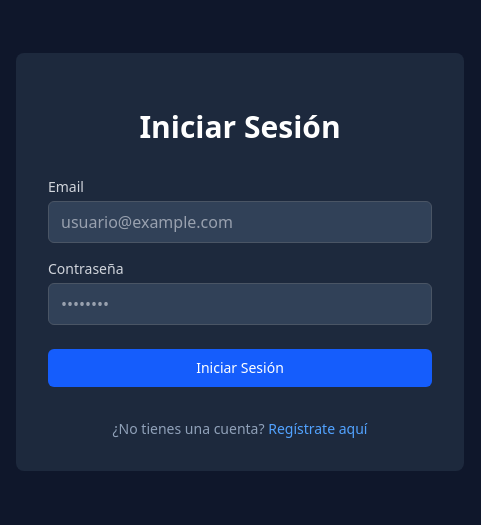
Test: LoginPage › debe mostrar error cuando el login falla
This screenshot has width=481, height=525.
Type "test@example.com" into the field labelled "Email" at (240,222), box x1=48 y1=201 x2=432 y2=243
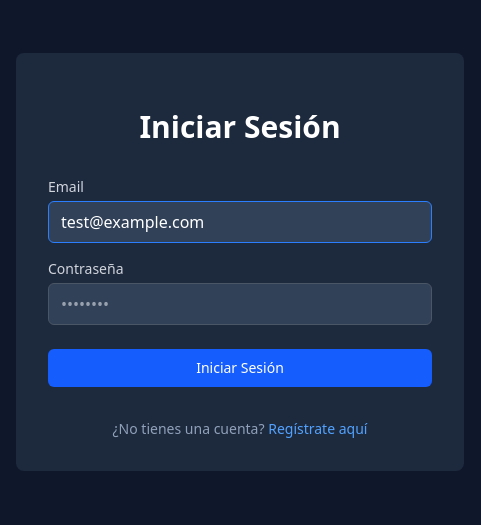
Type "wrongpassword" into the password field labelled "Contraseña" at (240,304), box x1=48 y1=283 x2=432 y2=325
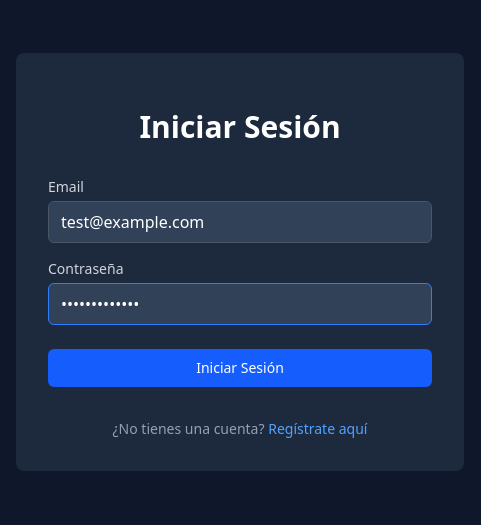
Click the button "Iniciar Sesión" at (240,368), box x1=48 y1=349 x2=432 y2=387
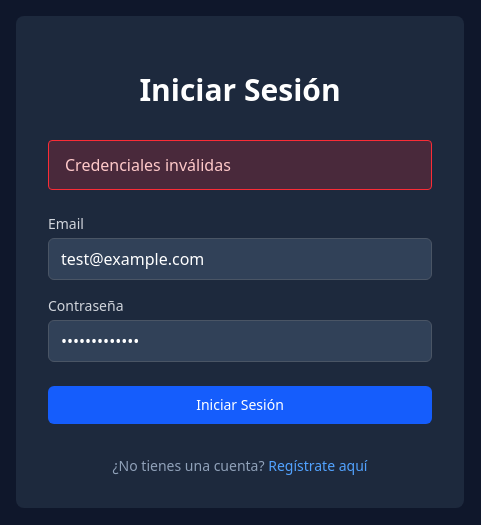
Result: the text "Credenciales inválidas" is shown at x1=48 y1=140 x2=432 y2=190
